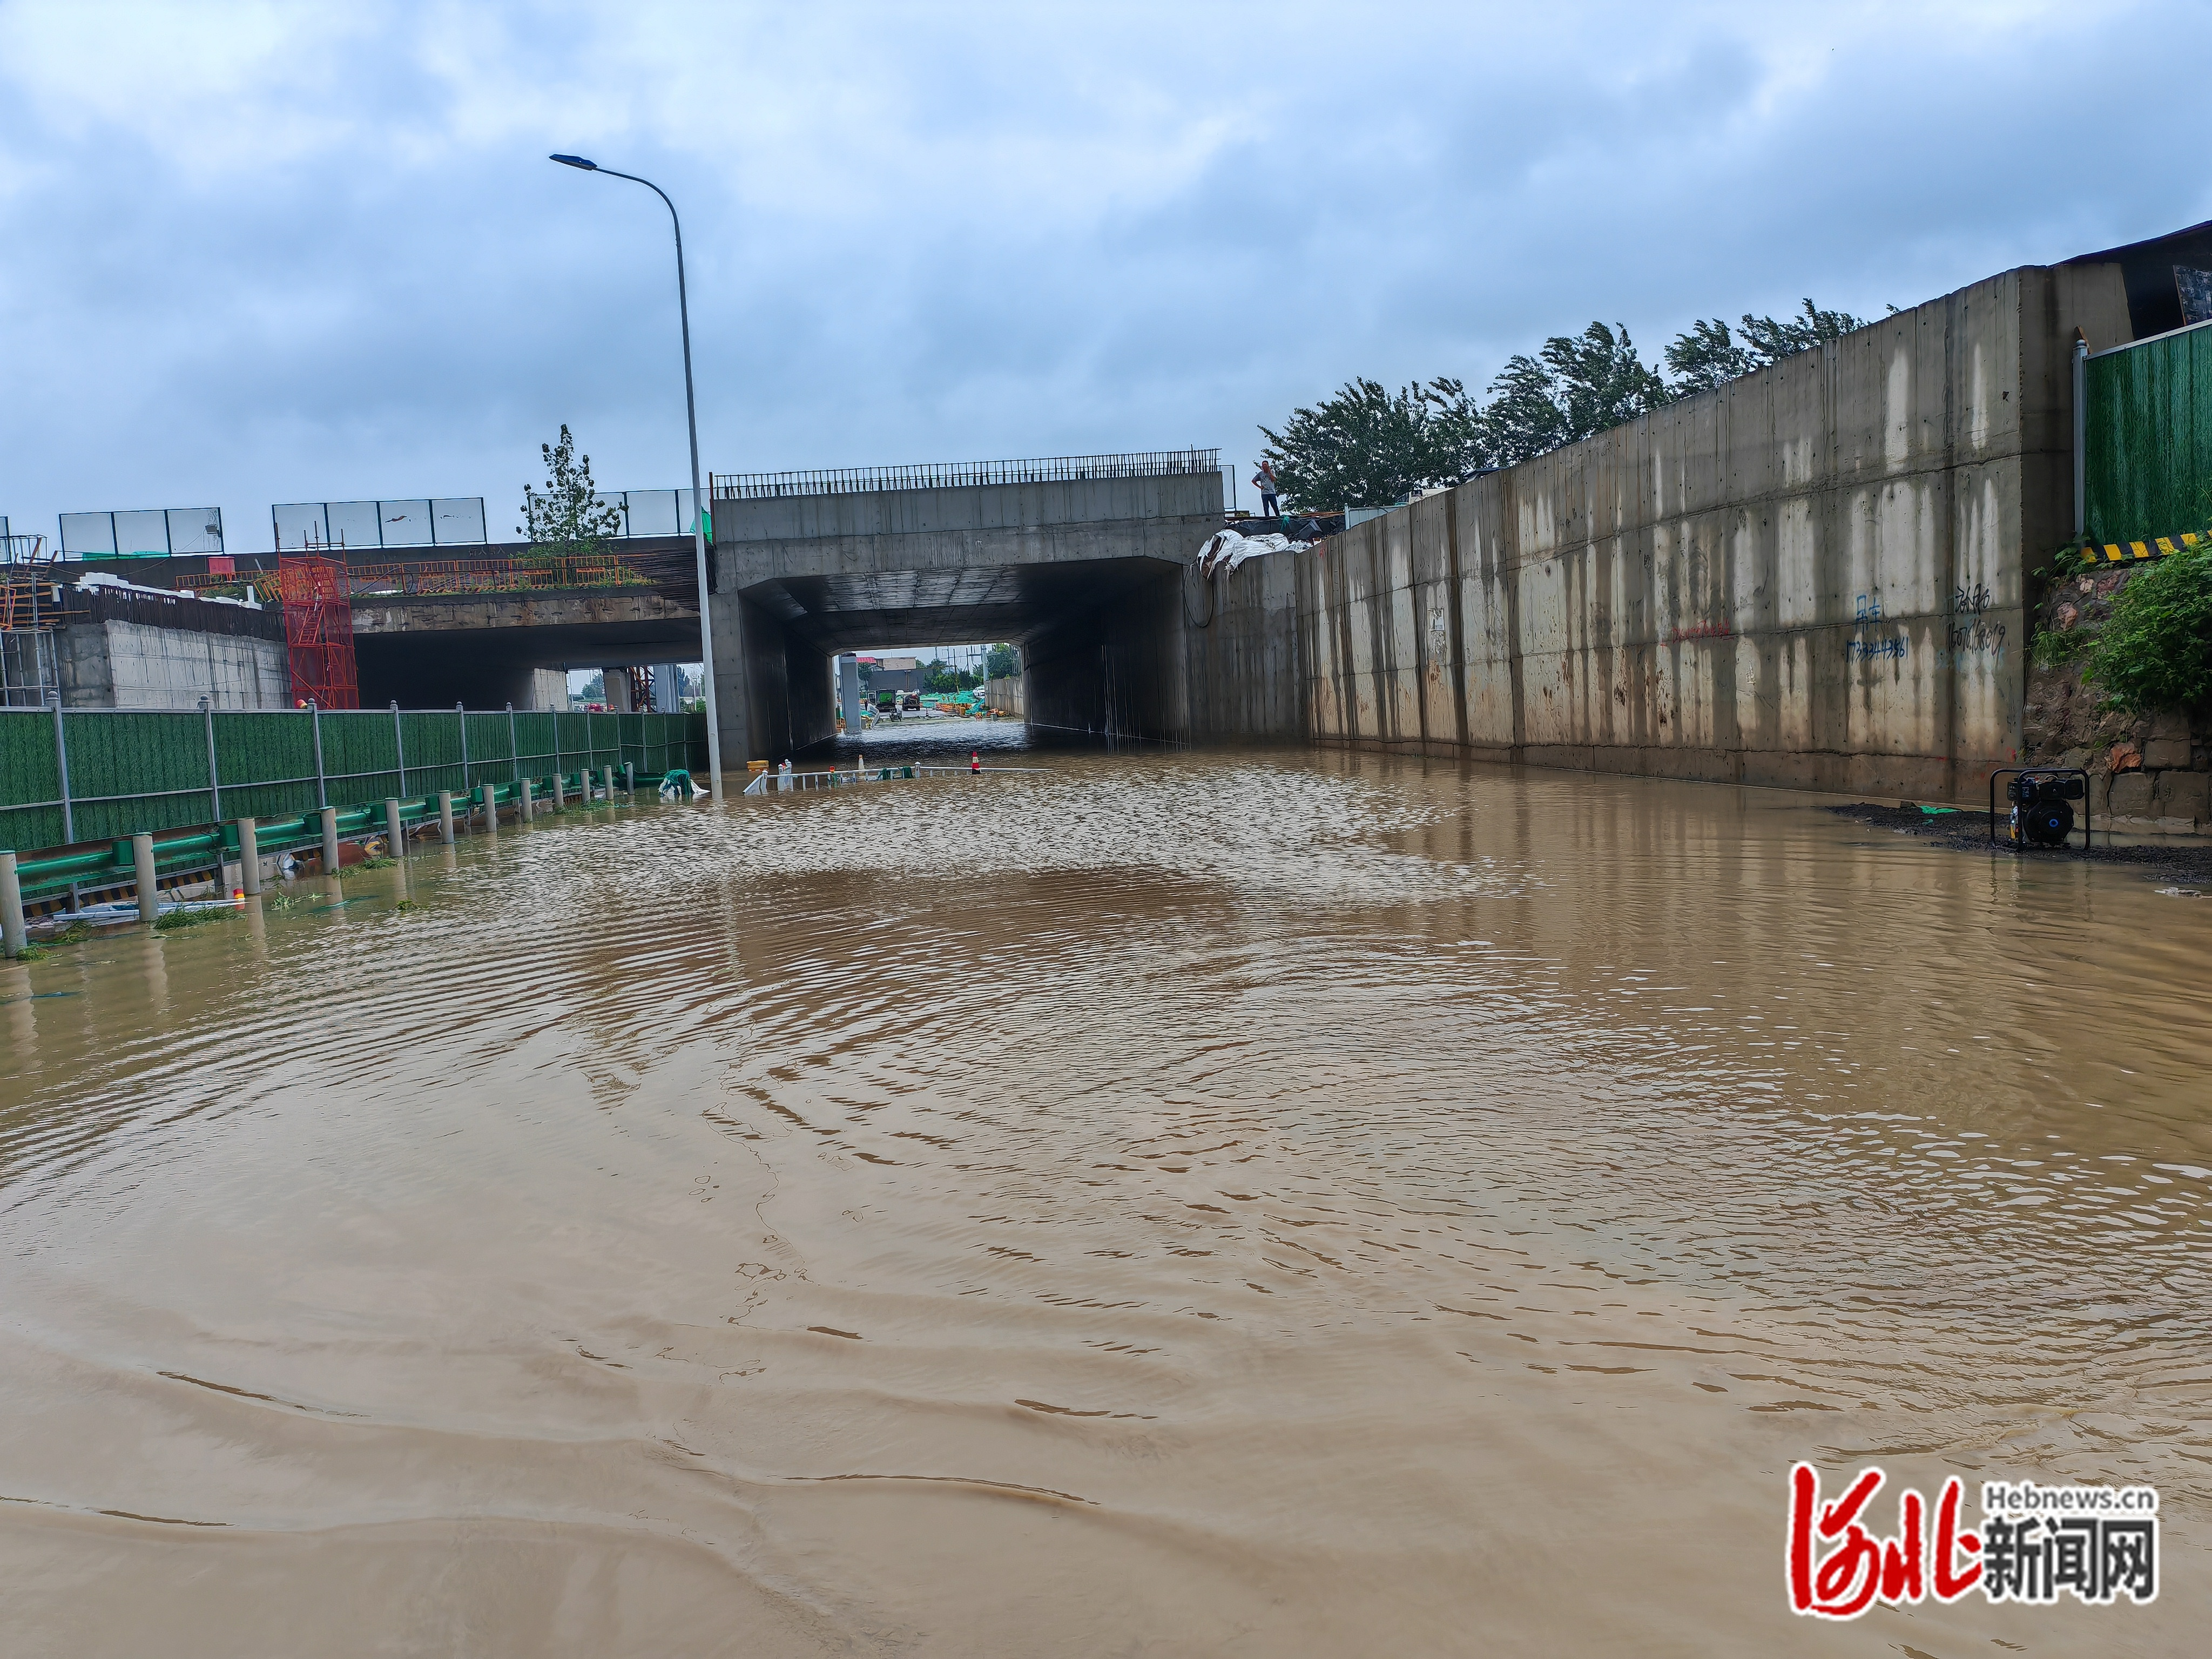puddle: (10, 805, 2207, 1659)
